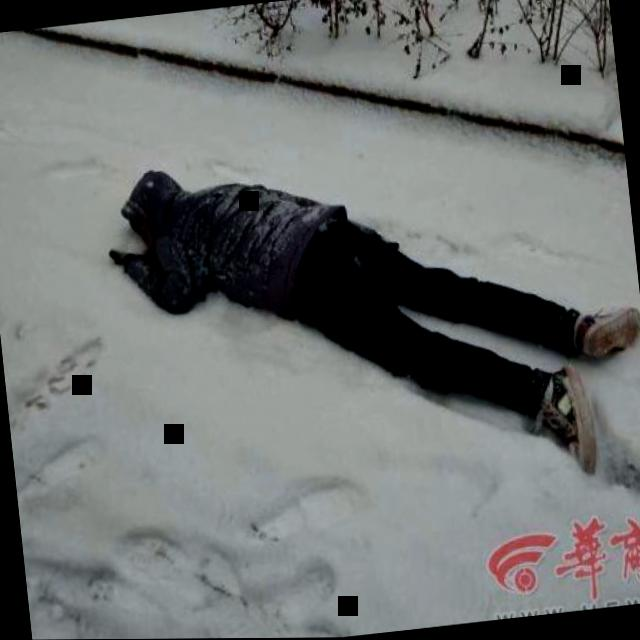Fall-Detected: (82, 99, 640, 501)
